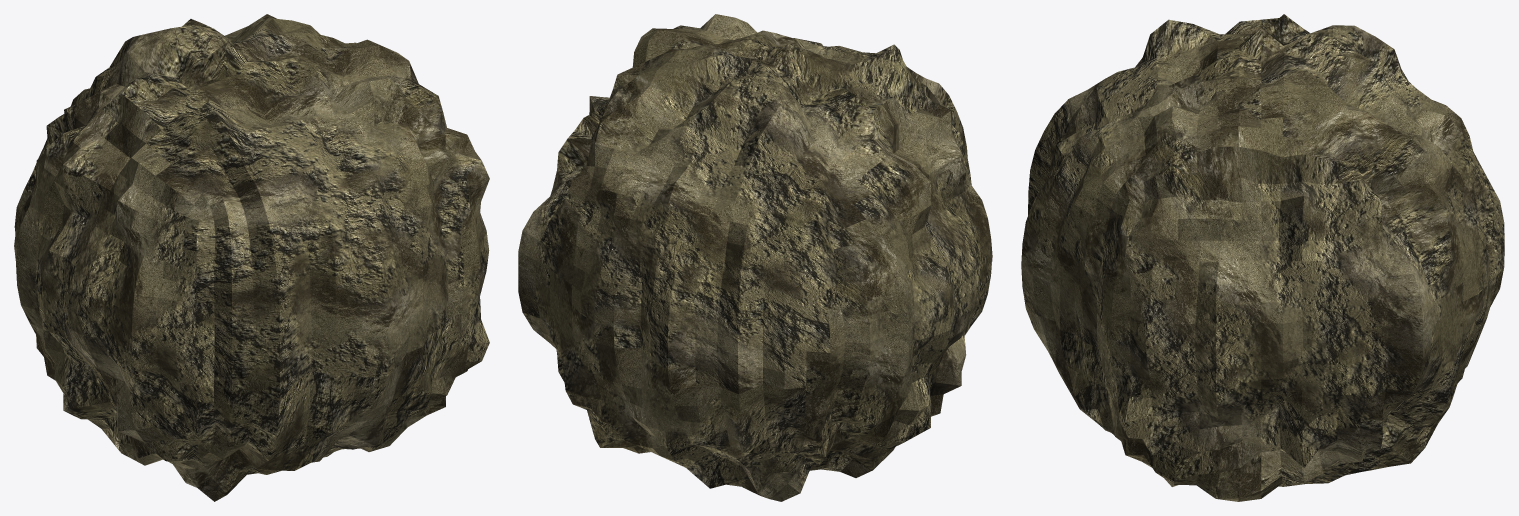
The model's file is asteroid80.obj.
3 renders of one model, left to right at view 1: azimuth 30°, elevation 25°; view 2: azimuth 150°, elevation 25°; view 3: azimuth 270°, elevation 25°, orthographic.
Parts seen in each view (by area): view 1: Cube_Cube.002; view 2: Cube_Cube.002; view 3: Cube_Cube.002.
Boxes of the visible parts, left/top/right/bottom form: Cube_Cube.002: left=14, top=14, right=489, bottom=501; Cube_Cube.002: left=518, top=14, right=992, bottom=501; Cube_Cube.002: left=1021, top=14, right=1504, bottom=501.
Bounding box in the file's own units: 1.67 × 1.8 × 1.81.
